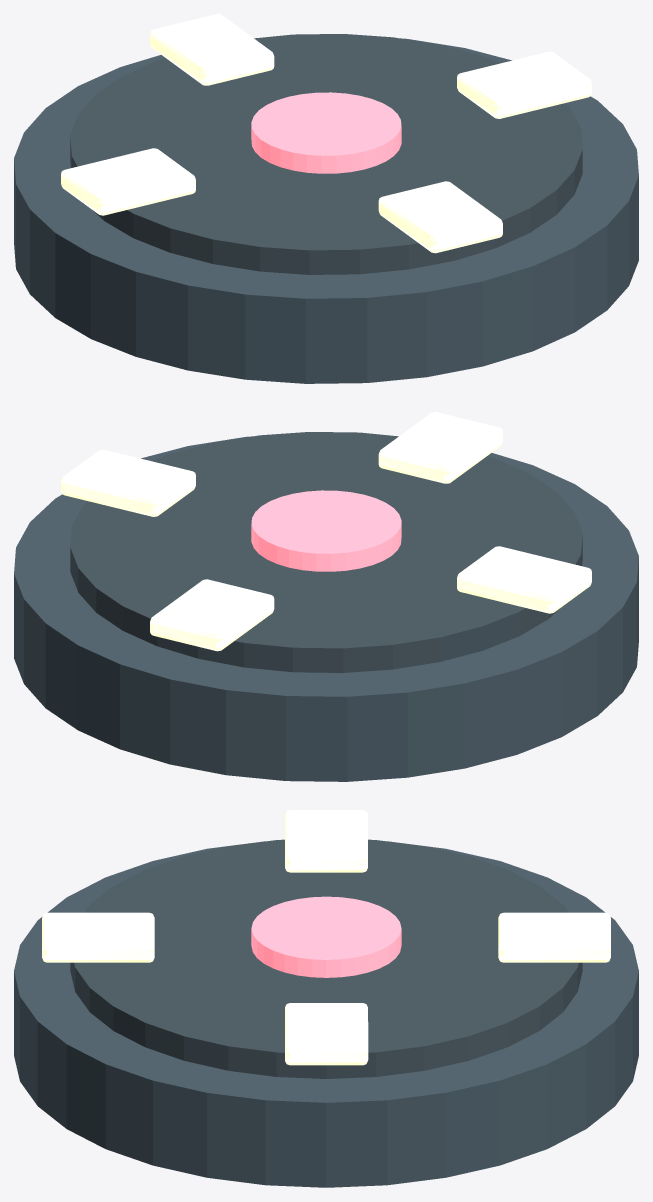
The model's file is mine_core.glb.
The picture shows the model from 3 angles, top to bottom: view 1: azimuth 30°, elevation 25°; view 2: azimuth 150°, elevation 25°; view 3: azimuth 270°, elevation 25°; orthographic projection.
Visible parts, largest first — view 1: mine_core / body / mine_core dark structure, mine_core / body / Titanium recess, mine_core / body / mine_core emissive insert, mine_core / body / mine_core identity light; view 2: mine_core / body / mine_core dark structure, mine_core / body / Titanium recess, mine_core / body / mine_core emissive insert, mine_core / body / mine_core identity light; view 3: mine_core / body / mine_core dark structure, mine_core / body / Titanium recess, mine_core / body / mine_core emissive insert, mine_core / body / mine_core identity light.
Boxes of the visible parts, <box> form: mine_core / body / mine_core dark structure: <box>14,38,638,383</box>; mine_core / body / Titanium recess: <box>70,34,582,274</box>; mine_core / body / mine_core emissive insert: <box>61,14,591,253</box>; mine_core / body / mine_core identity light: <box>251,92,401,173</box>; mine_core / body / mine_core dark structure: <box>14,436,638,781</box>; mine_core / body / Titanium recess: <box>70,432,582,672</box>; mine_core / body / mine_core emissive insert: <box>61,412,591,651</box>; mine_core / body / mine_core identity light: <box>251,490,401,571</box>; mine_core / body / mine_core dark structure: <box>14,841,638,1187</box>; mine_core / body / Titanium recess: <box>70,839,582,1078</box>; mine_core / body / mine_core emissive insert: <box>42,810,610,1065</box>; mine_core / body / mine_core identity light: <box>251,896,401,977</box>.
Bounding box in the file's own units: 30 × 6.75 × 30.
